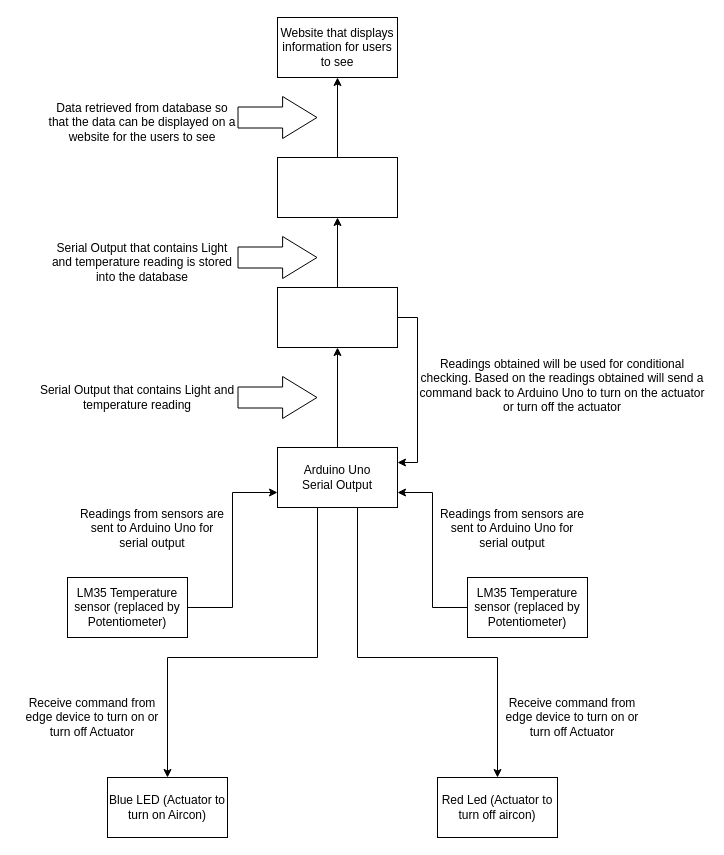
Some shapes in this 724 by 855 pixel diagram are drawn without their labels. The shapes that lost their labels are listed below. From the top down, each one's centre as x and y in pixels, then its label:
the point at 337,187: MySQL Database
the point at 337,317: Python script
